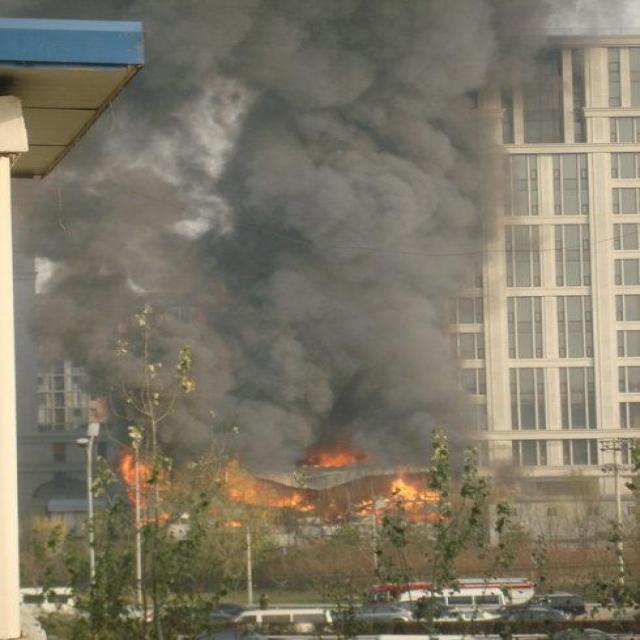fire: (110, 454, 456, 522), (311, 447, 356, 466)
smoke: (0, 0, 597, 479)
